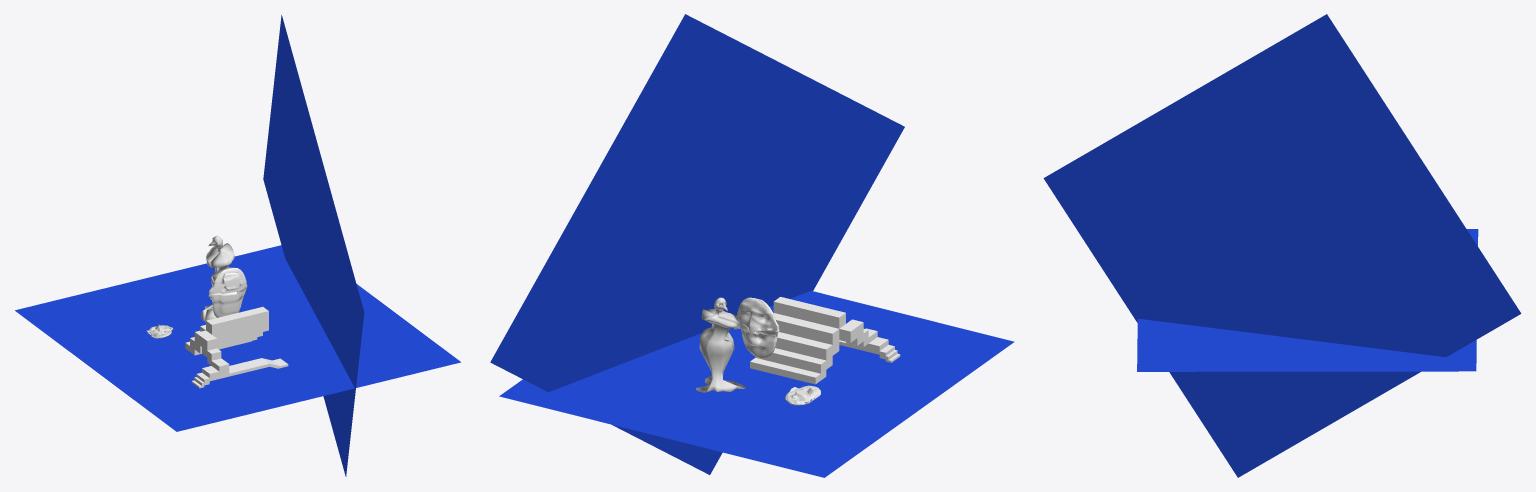
Rendered from setting.glb.
3 renders of one model, left to right at view 1: azimuth 30°, elevation 25°; view 2: azimuth 150°, elevation 25°; view 3: azimuth 270°, elevation 25°, orthographic. The views are drawn at different scales.
Visible parts, largest first — view 1: Plane.001, Plane.000, Cube, stair face, Sphere.001; view 2: Plane.000, Plane.001, Cube, Sphere.001, stair face; view 3: Plane.000, Plane.001.
Part boxes in pixels (box(x1,y1,x2,y2)): Plane.001: box(15, 245, 460, 431); Plane.000: box(263, 15, 364, 476); Cube: box(185, 307, 288, 388); stair face: box(208, 268, 247, 317); Sphere.001: box(201, 235, 234, 322); Plane.000: box(490, 14, 904, 474); Plane.001: box(499, 290, 1014, 477); Cube: box(750, 297, 900, 384); Sphere.001: box(696, 297, 746, 392); stair face: box(734, 297, 779, 358); Plane.000: box(1043, 14, 1521, 477); Plane.001: box(1137, 229, 1478, 371).
Bounding box in the file's own units: 35.49 × 52.01 × 49.73.
